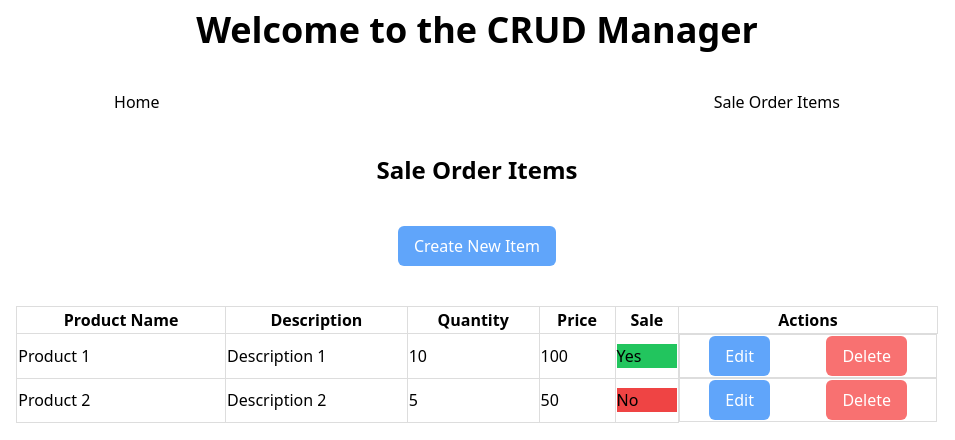
Test: SaleOrderItems Component › should handle delete button click
Expected: the text "Product 1" is shown, [17,334,226,378]
Click the button "Delete" in the row of "Product 1": (867, 356) [826,336,907,376]
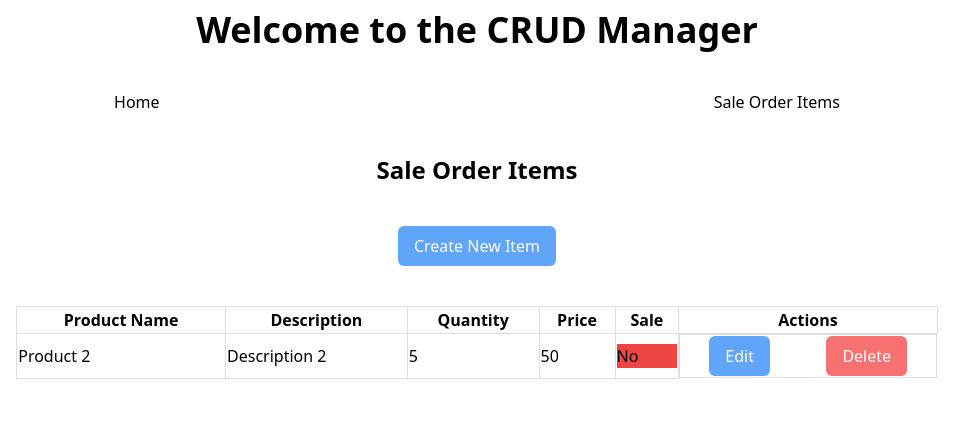
Expected: the text "Product 2" is shown, [17,334,226,378]
Now the text "Product 1" is gone
